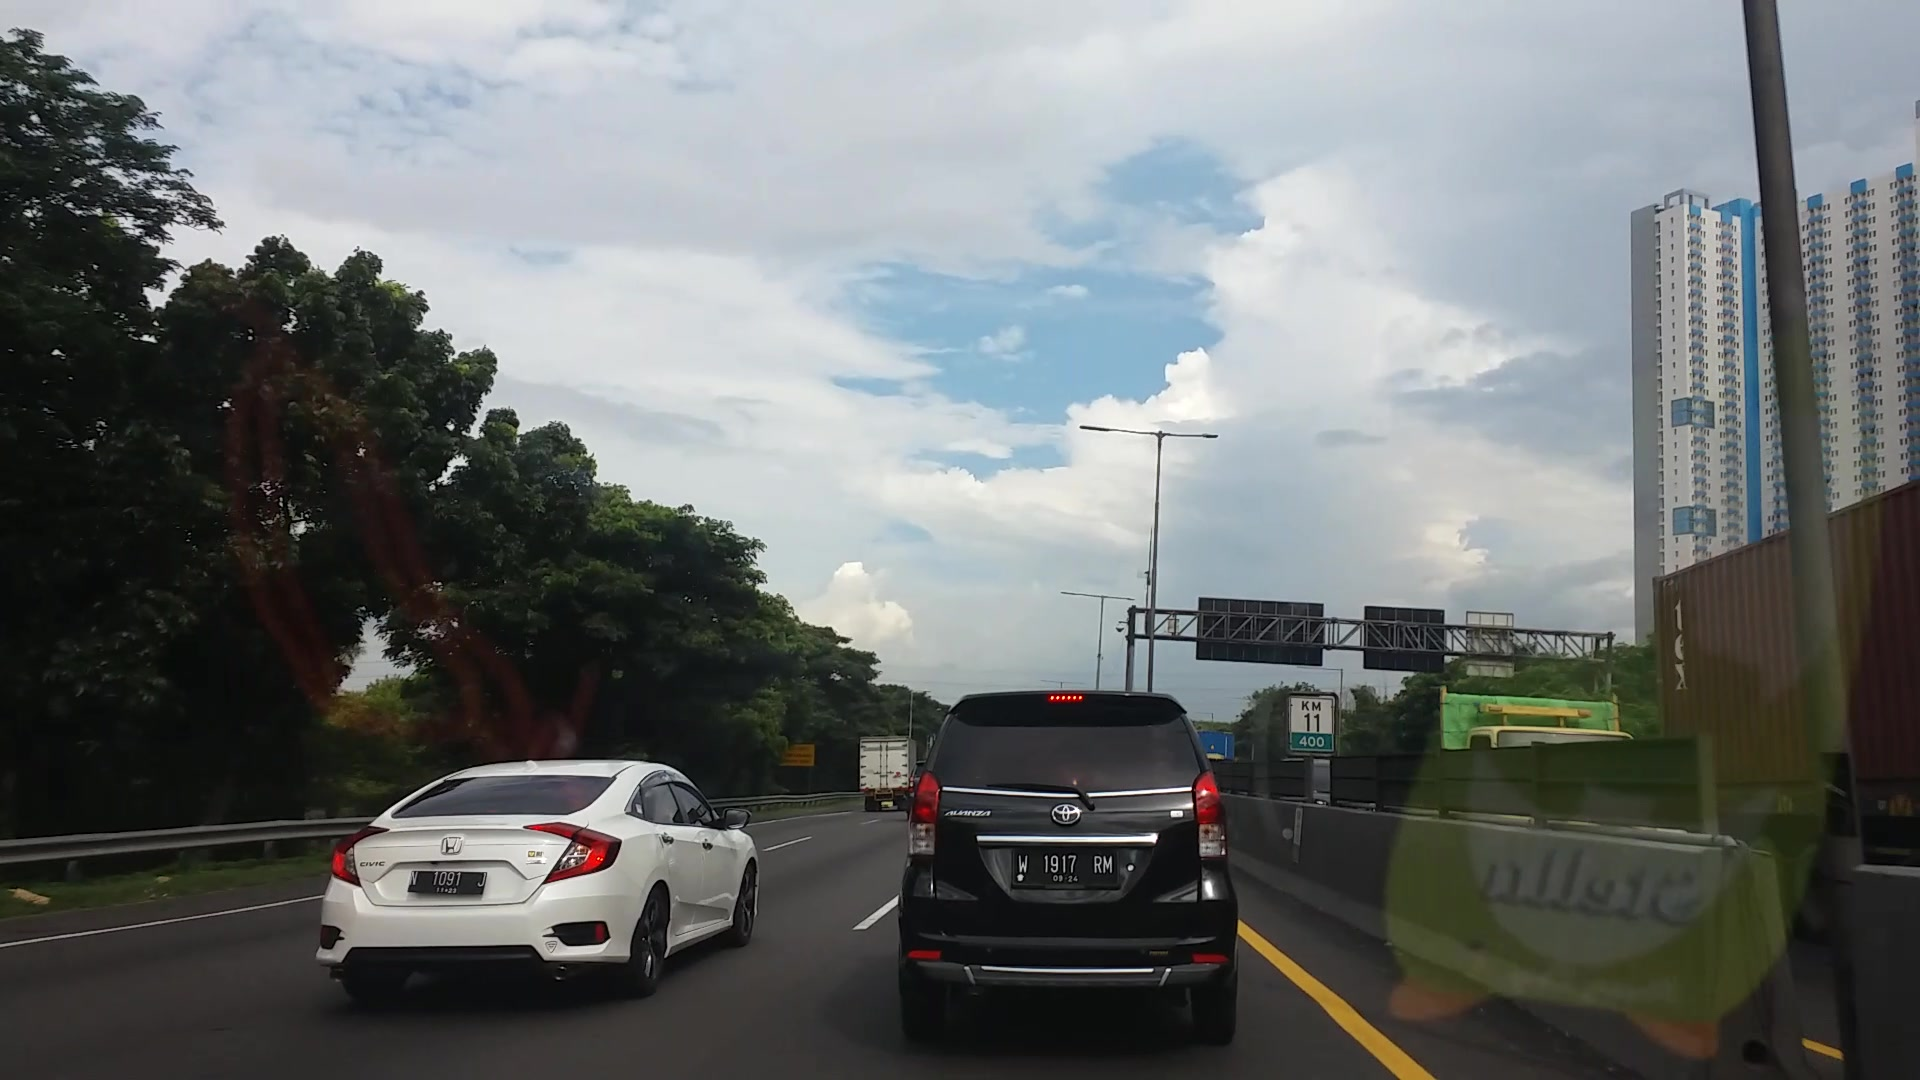plate_positive: (1013, 851, 1116, 884)
